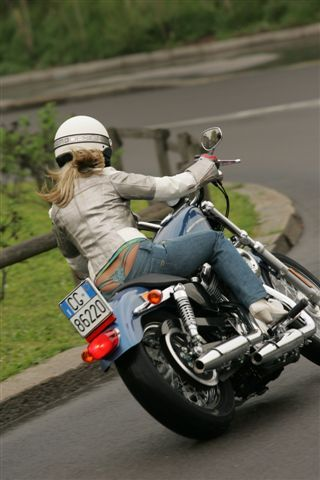with_helmet: (48, 115, 116, 165)
